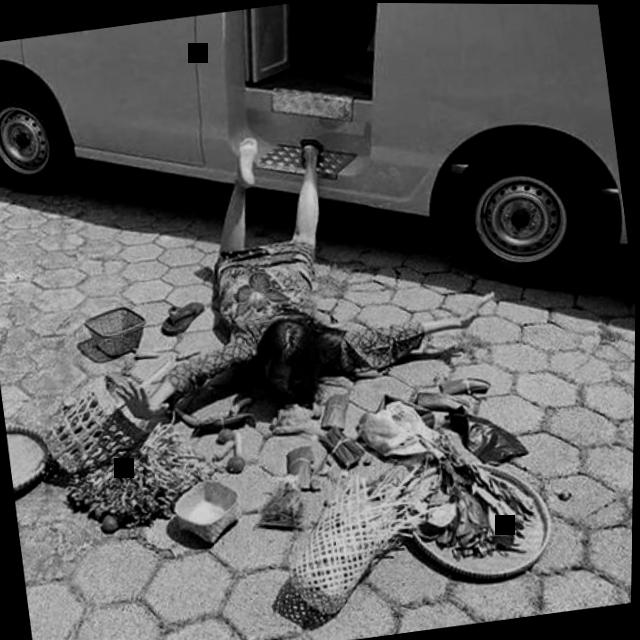Fall-Detected: (82, 87, 521, 446)
